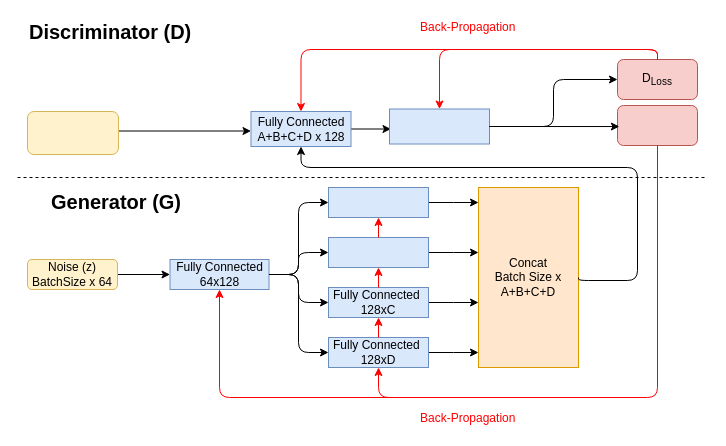
This 726x446 diagram has some shape labels left out. The centre of each missing label's shape, as x and y in pixels:
Fully Connected 128 x 1: the point at 439,126
Fully Connected 128xA: the point at 378,202
Fully Connected 128xB: the point at 378,252
G Loss: the point at 657,125
Real Sample (s) BatchSize x A+B+C+D: the point at 72,132
